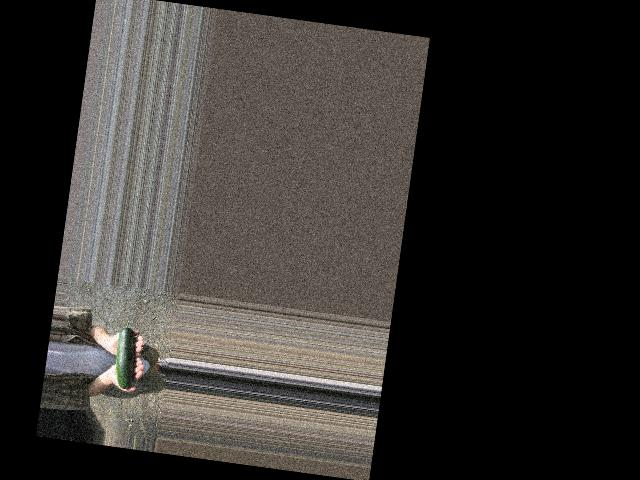cucumber: (112, 319, 140, 389)
